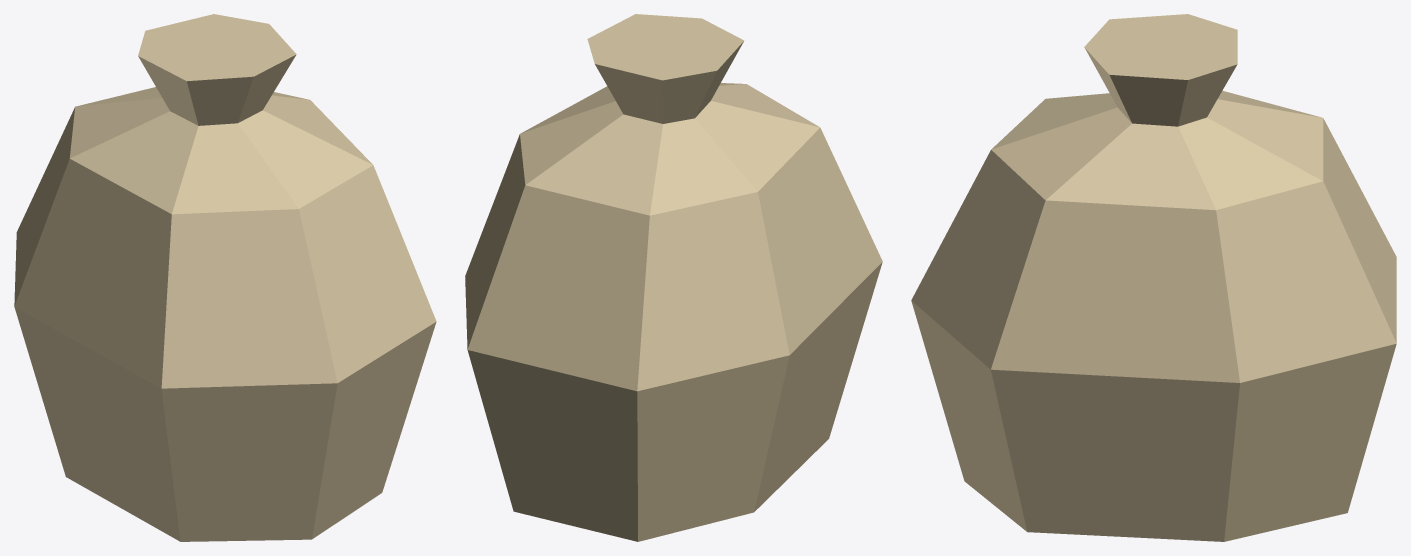
Rendered from SM_Sack.fbx.
The picture shows the model from 3 angles, left to right: view 1: azimuth 30°, elevation 25°; view 2: azimuth 150°, elevation 25°; view 3: azimuth 270°, elevation 25°; orthographic projection. The views are drawn at different scales.
Visible parts, largest first — view 1: Sack; view 2: Sack; view 3: Sack.
Boxes of the visible parts, left/top/right/bottom form: Sack: left=14, top=14, right=436, bottom=541; Sack: left=465, top=14, right=882, bottom=541; Sack: left=911, top=14, right=1396, bottom=541.
Size of the model in its own units: 58.79 by 72.96 by 72.
